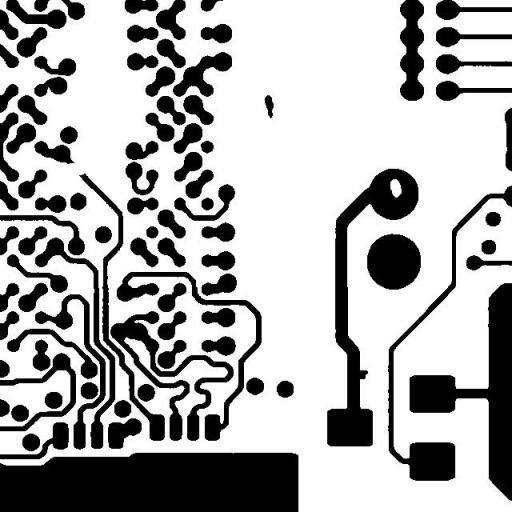copper: (257, 87, 281, 126)
open: (58, 156, 94, 182)
pin-hole: (382, 171, 409, 205)
short: (115, 312, 146, 346)
spur: (350, 362, 375, 386)
